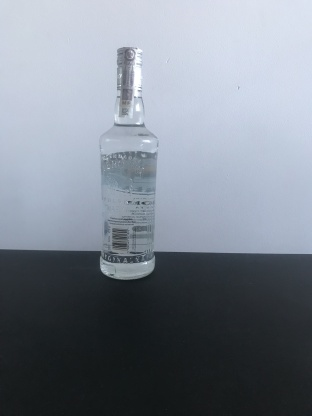nakretka: (113, 43, 145, 93)
